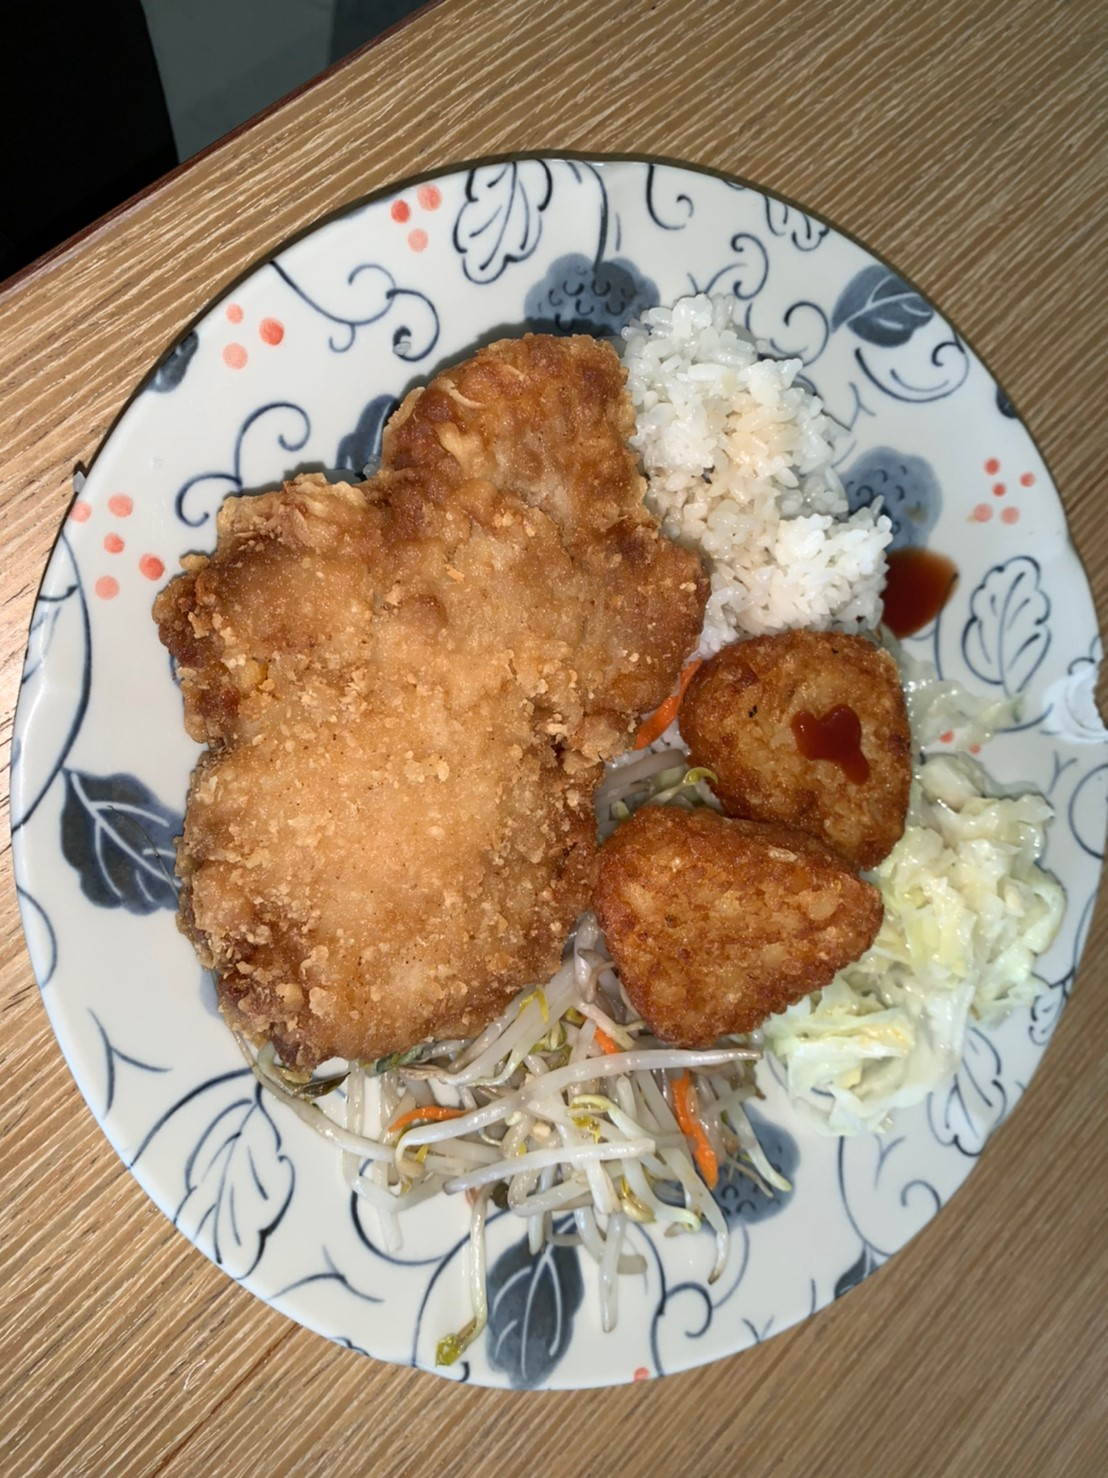chinese_cabbage: (846, 695, 1051, 1108)
fried_chicken: (172, 329, 641, 1054)
mung_bean_sprouts: (362, 1017, 710, 1216)
rice: (644, 289, 871, 632)
triangle_hash_brown: (591, 639, 901, 1049)
